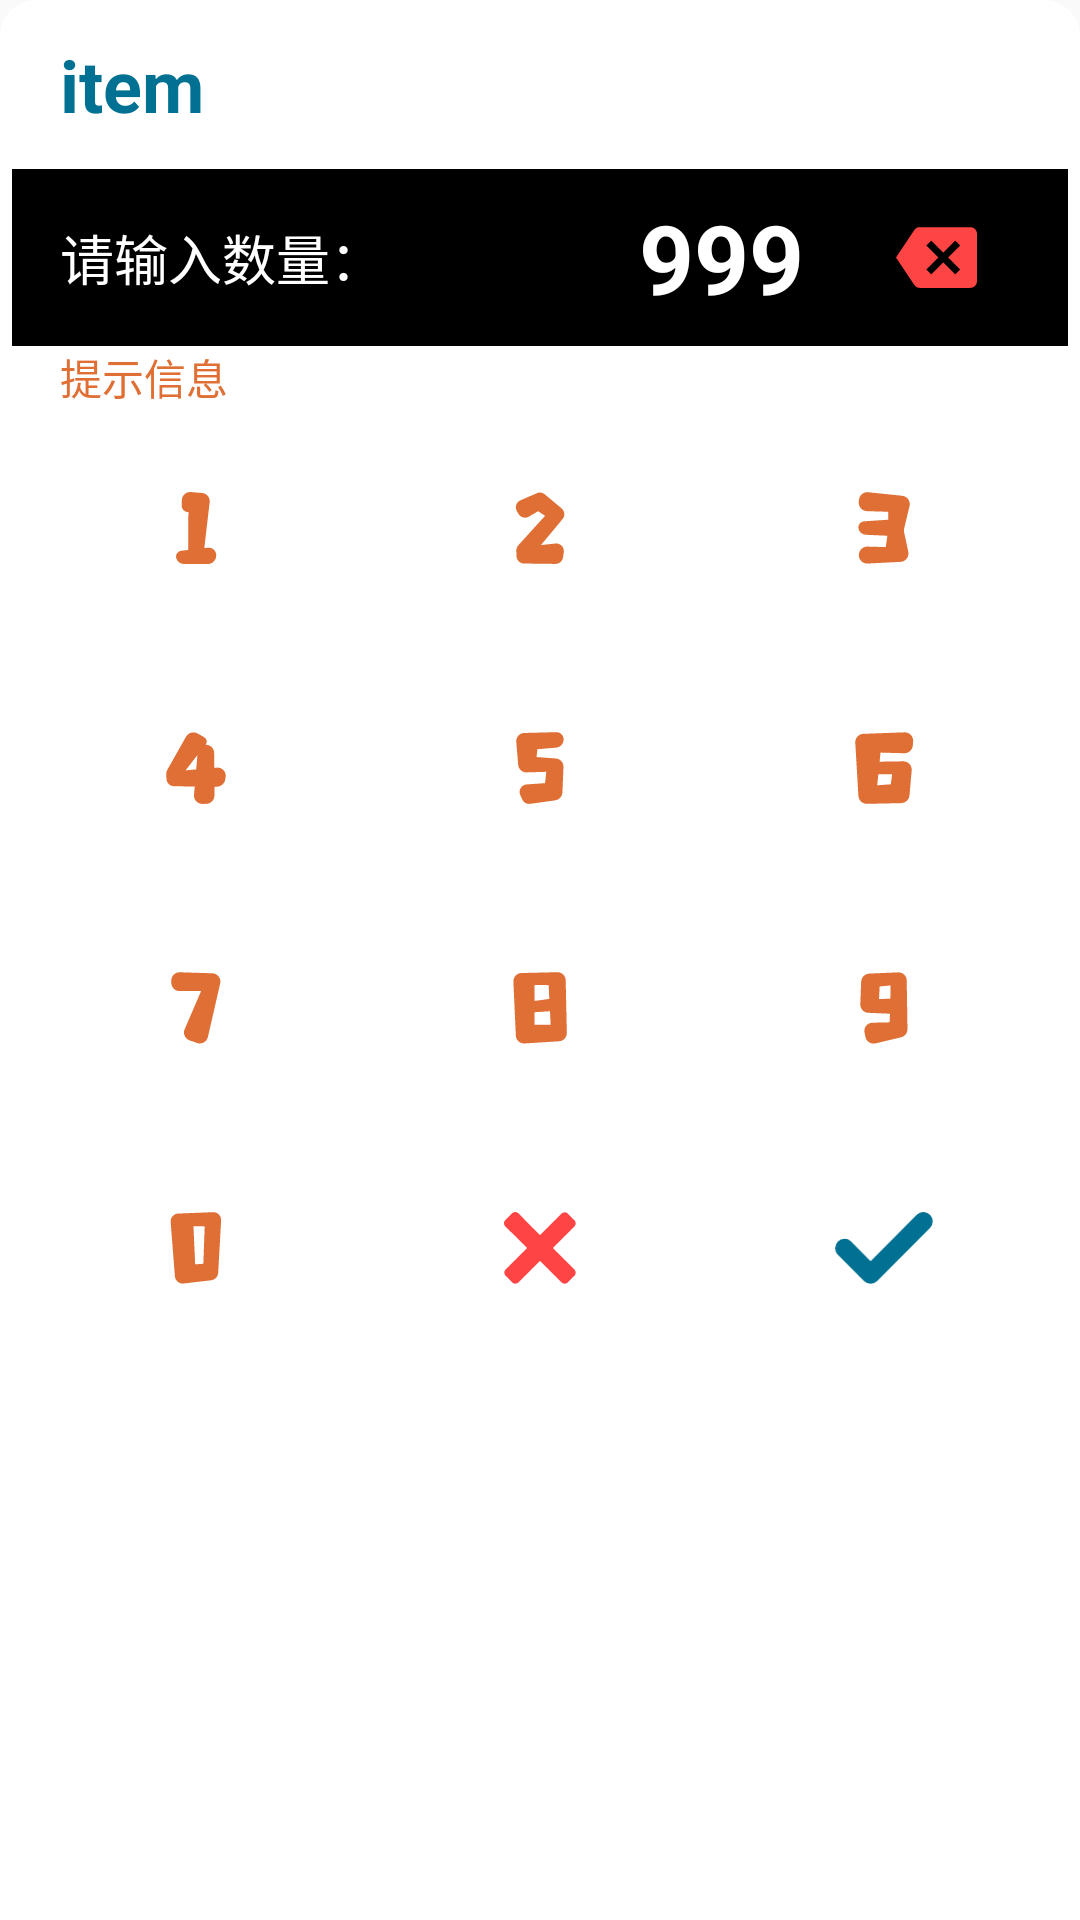

Screen size 1080 x 1920. Icon name, then its box in pixels as (x1, y1, x2, y2):
backspace: (896, 227, 977, 288)
cancel: (504, 1212, 576, 1284)
confirm: (835, 1212, 933, 1284)
